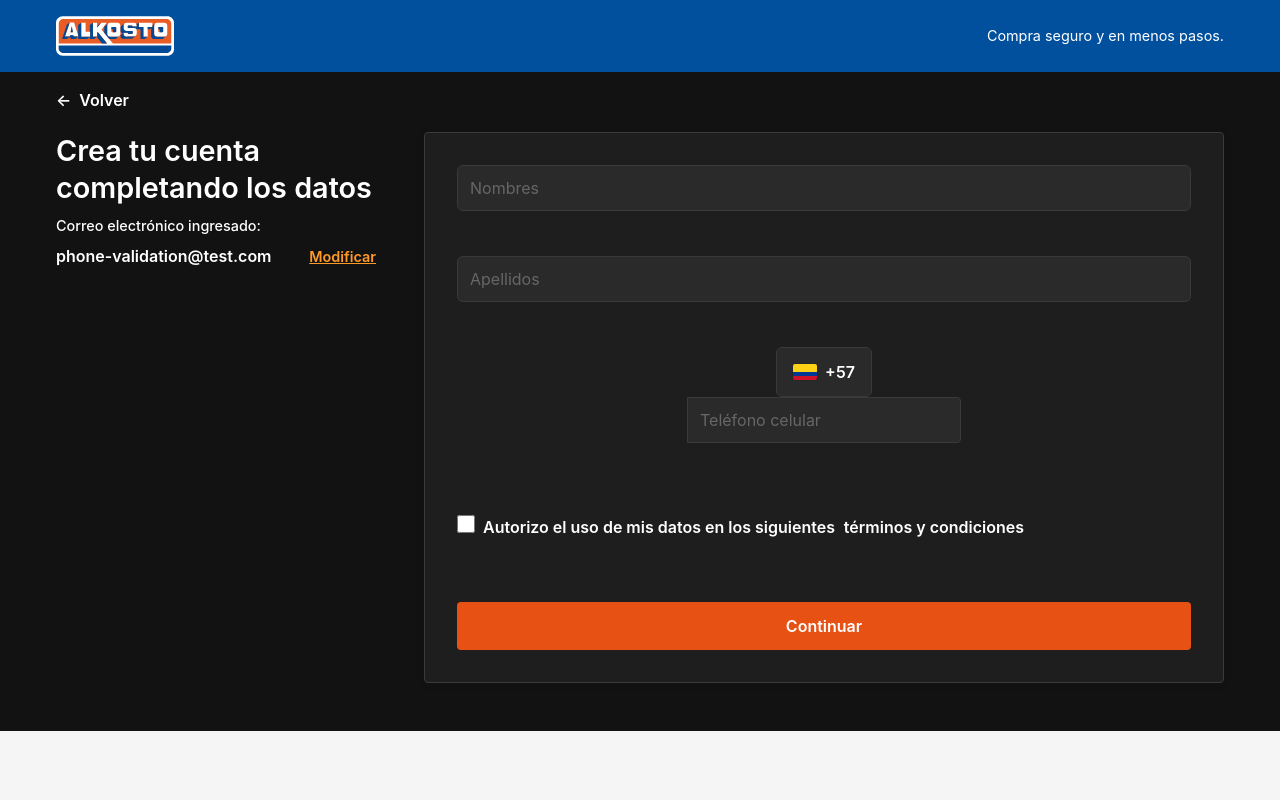
Test: RF01 - REGISTRAR USUARIO - Pruebas E2E Completas › 3. Validaciones Específicas de Teléfono › 3.3 Limita entrada a 10 dígitos máximo
Type "Test" into the field named "firstName".
click(824, 188); type("Test")  # box x1=457 y1=165 x2=1191 y2=211
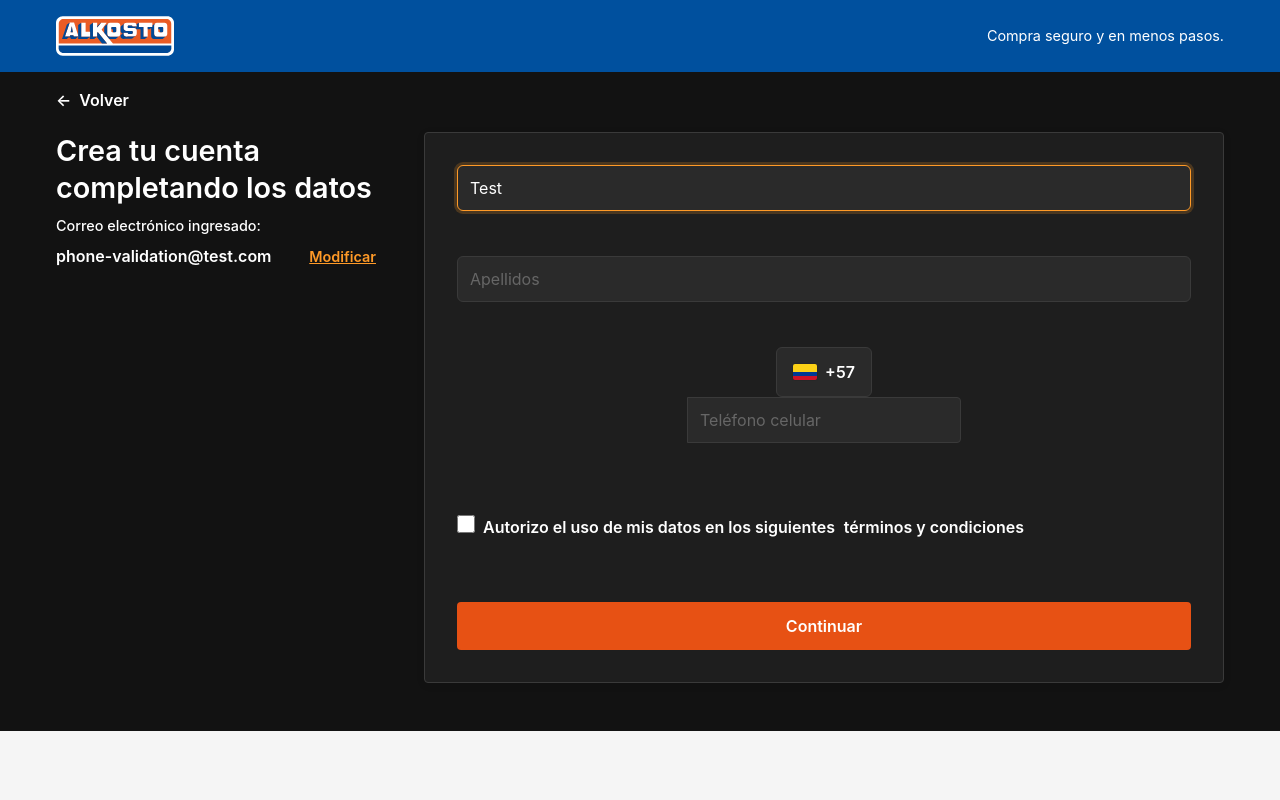
Type "User" into the field named "lastName".
click(824, 279); type("User")  # box x1=457 y1=256 x2=1191 y2=302
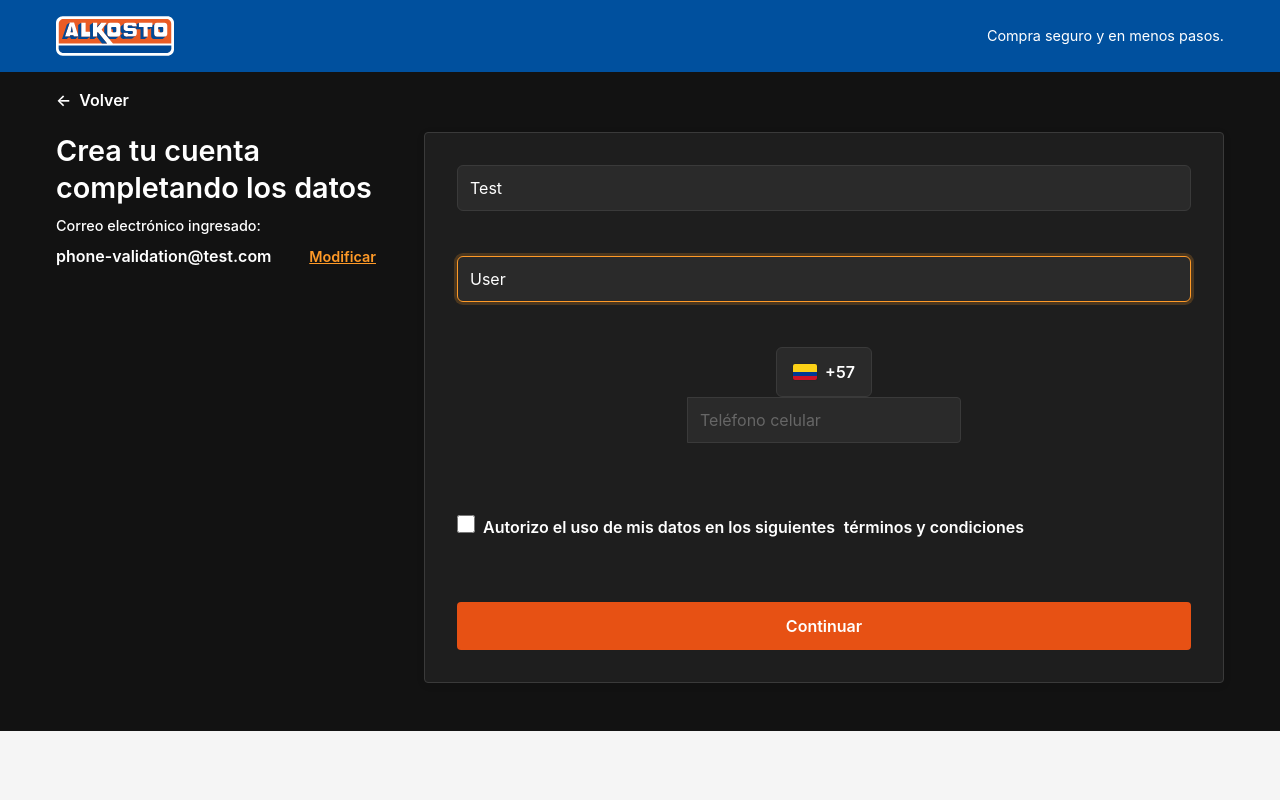
Check the checkbox named "agreeTerms".
click(466, 524)  # box x1=457 y1=515 x2=475 y2=533
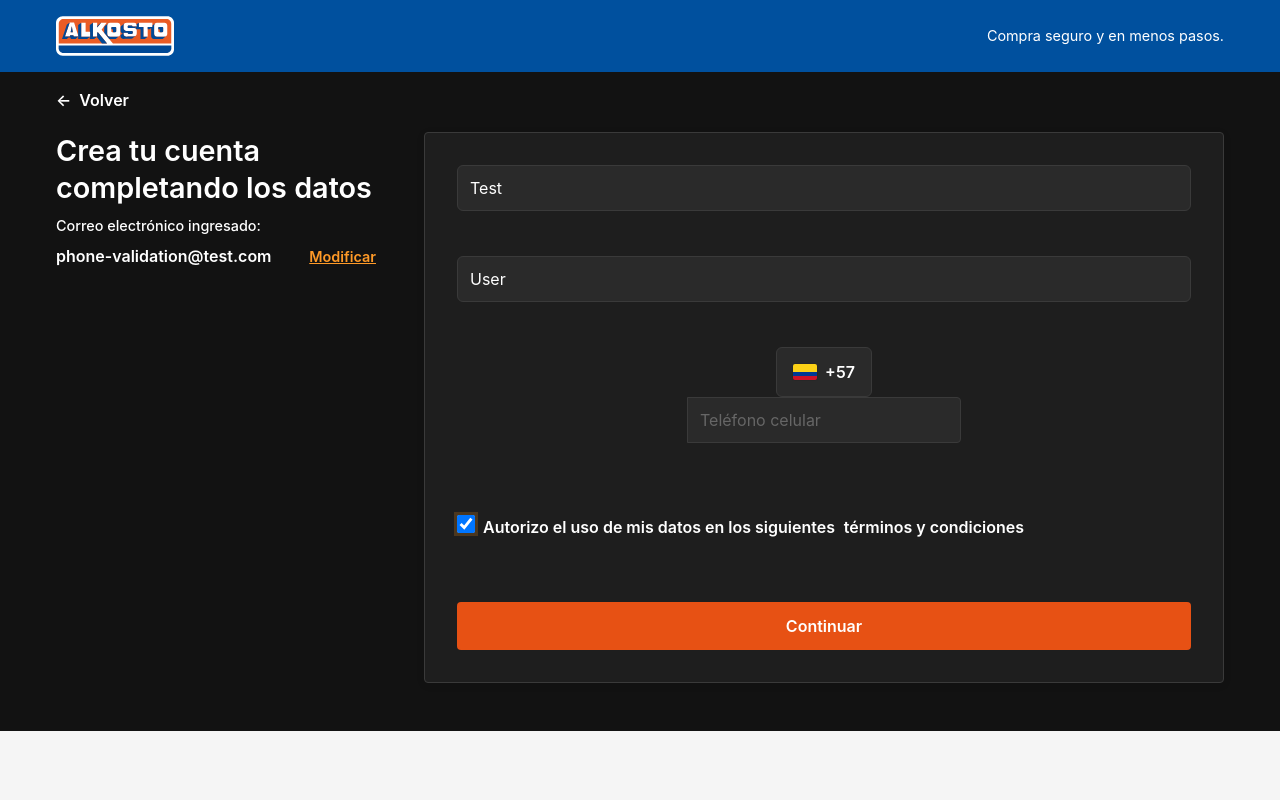
Type "30012345678901234567" into the field named "phone".
click(824, 420); type("30012345678901234567")  # box x1=687 y1=397 x2=961 y2=443
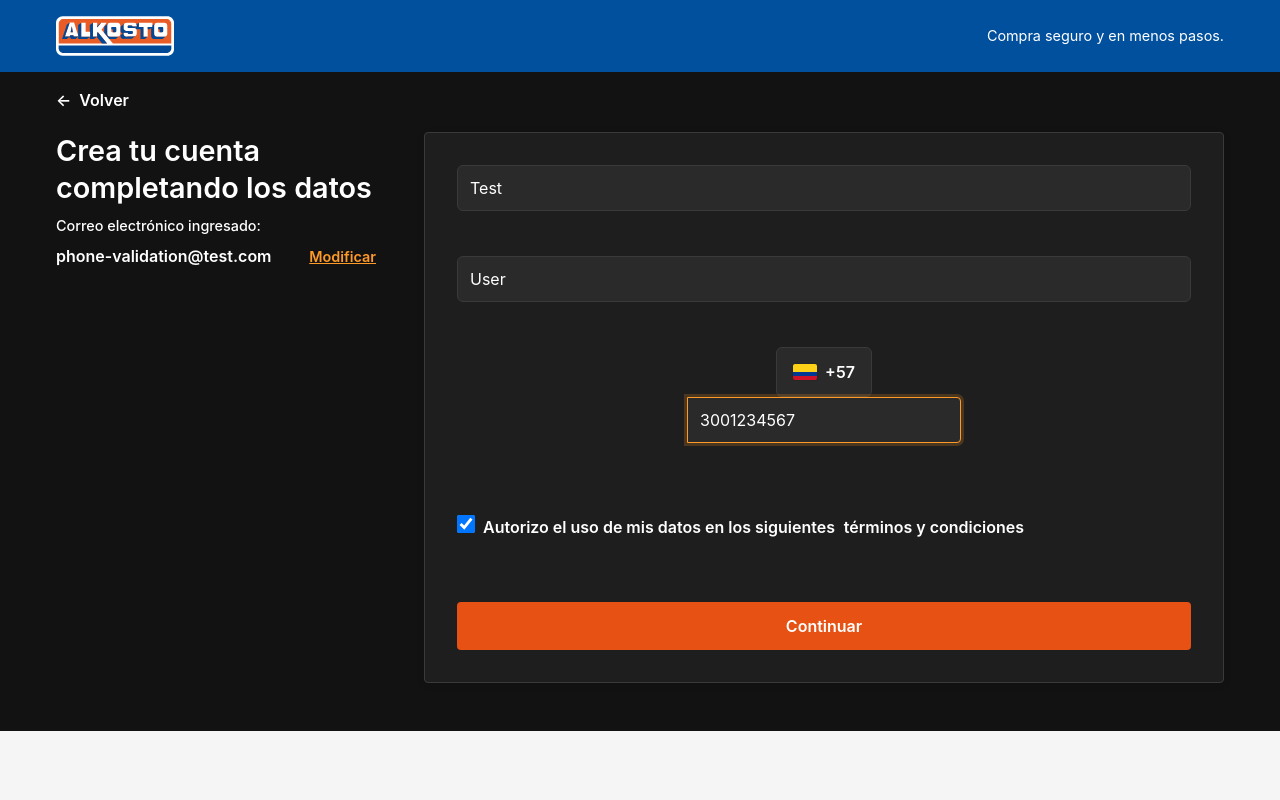
Expected: the field named "phone" below "+57" holds "3001234567", x1=687 y1=397 x2=961 y2=443
